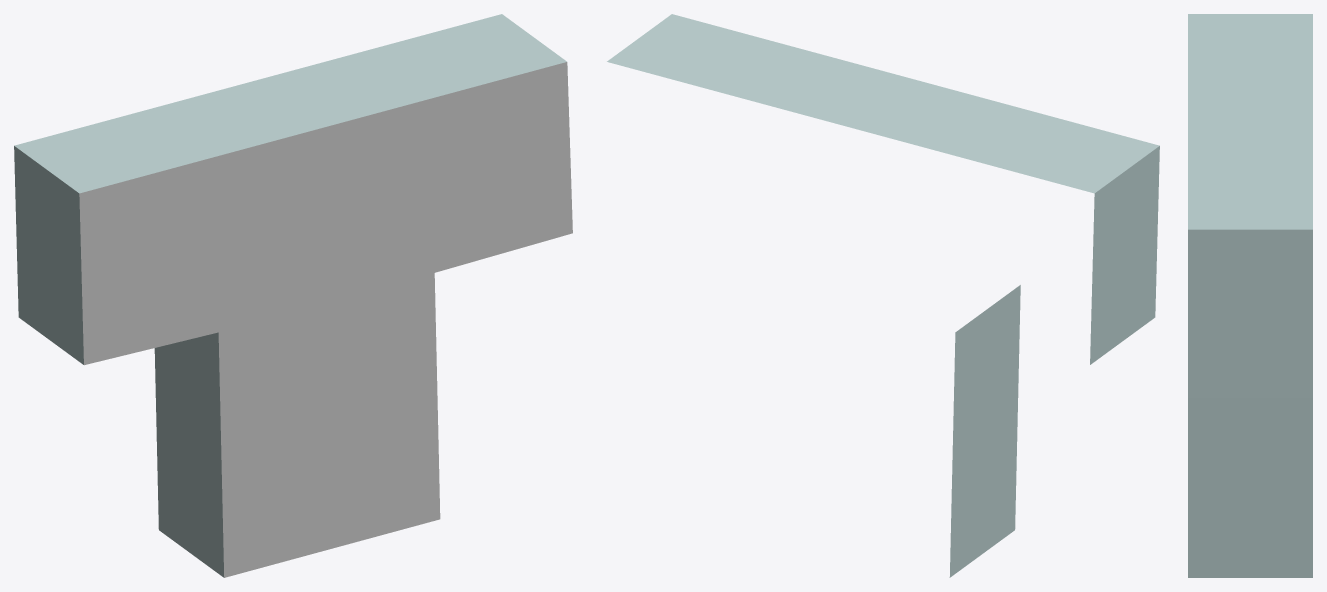
3 renders of one model, left to right at view 1: azimuth 30°, elevation 25°; view 2: azimuth 150°, elevation 25°; view 3: azimuth 270°, elevation 25°, orthographic. The views are drawn at different scales.
Visible parts, largest first — view 1: 0_2_3_2_3_1_3_2_1; view 2: 0_2_3_2_3_1_3_2_1; view 3: 0_2_3_2_3_1_3_2_1.
Boxes of the visible parts, x1,y1,x2,y2 form: 0_2_3_2_3_1_3_2_1: (14,14,572,577); 0_2_3_2_3_1_3_2_1: (607,14,1159,577); 0_2_3_2_3_1_3_2_1: (1188,14,1312,577).
Size of the model in its own units: 13.08 by 10.95 by 3.
